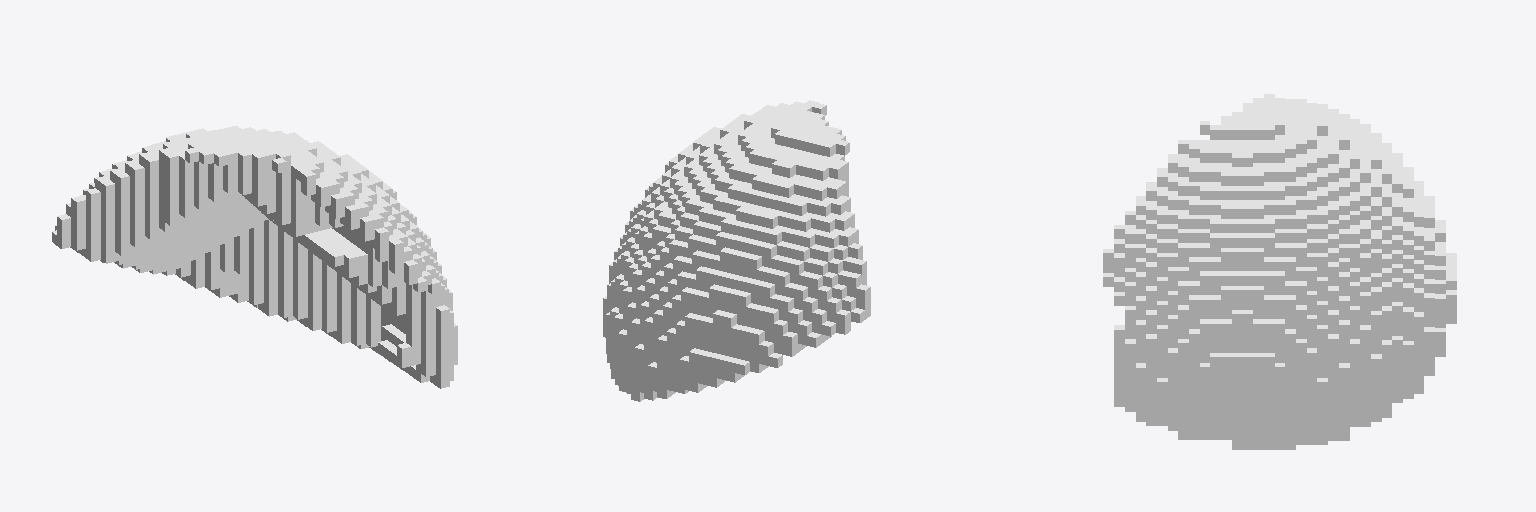
Rendered from кусманище.obj.
3 views of the same model, side by side, from view 1: azimuth 30°, elevation 25°; view 2: azimuth 150°, elevation 25°; view 3: azimuth 270°, elevation 25° (orthographic).
Parts seen in each view (by area): view 1: object 1; view 2: object 1; view 3: object 1.
Part boxes in pixels (left/top/right/bottom): object 1: left=52, top=126, right=457, bottom=388; object 1: left=603, top=100, right=870, bottom=401; object 1: left=1103, top=94, right=1456, bottom=449.
Bounding box in the file's own units: 3.2 × 2.6 × 3.3.